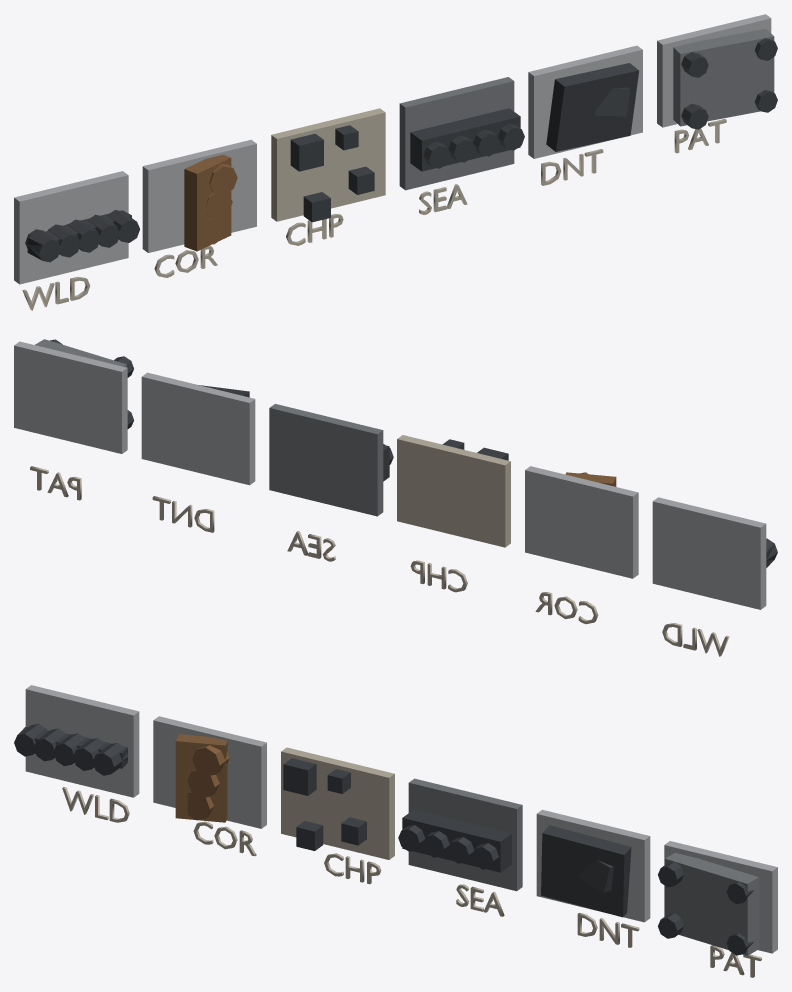
The model's file is TC_PolishDetails_V1.gltf.
The picture shows the model from 3 angles, top to bottom: view 1: azimuth 30°, elevation 25°; view 2: azimuth 150°, elevation 25°; view 3: azimuth 330°, elevation 25°; orthographic projection.
Parts seen in each view (by area): view 1: TC_PolishRef_PaintChip_Panel, TC_PolishRef_WeldScar_Panel, TC_PolishRef_SalvagePatch_Patch, TC_PolishRef_Corrosion_Panel, TC_PolishRef_MechSeam_Panel, TC_PolishRef_Dent_Bulge, TC_PolishRef_Dent_Panel, TC_PolishRef_SalvagePatch_Panel, TC_PolishRef_MechSeam_Strip, TC_PolishRef_Corrosion_Streak, TC_PolishRef_PaintChip_Chip_0, TC_PolishRef_WLD_Label (+22 smaller); view 2: TC_PolishRef_WeldScar_Panel, TC_PolishRef_MechSeam_Panel, TC_PolishRef_Dent_Panel, TC_PolishRef_Corrosion_Panel, TC_PolishRef_PaintChip_Panel, TC_PolishRef_SalvagePatch_Panel, TC_PolishRef_WLD_Label, TC_PolishRef_DNT_Label, TC_PolishRef_COR_Label, TC_PolishRef_CHP_Label, TC_PolishRef_SEA_Label, TC_PolishRef_PAT_Label (+1 smaller); view 3: TC_PolishRef_PaintChip_Panel, TC_PolishRef_WeldScar_Panel, TC_PolishRef_SalvagePatch_Patch, TC_PolishRef_Corrosion_Panel, TC_PolishRef_MechSeam_Panel, TC_PolishRef_Dent_Bulge, TC_PolishRef_Dent_Panel, TC_PolishRef_SalvagePatch_Panel, TC_PolishRef_MechSeam_Strip, TC_PolishRef_Corrosion_Streak, TC_PolishRef_PaintChip_Chip_0, TC_PolishRef_WLD_Label (+21 smaller).
Boxes of the visible parts, box(x1,y1,x2,y2) form: TC_PolishRef_PaintChip_Panel: box(271, 108, 385, 221); TC_PolishRef_WeldScar_Panel: box(14, 171, 128, 284); TC_PolishRef_SalvagePatch_Patch: box(673, 28, 774, 126); TC_PolishRef_Corrosion_Panel: box(142, 139, 256, 252); TC_PolishRef_MechSeam_Panel: box(399, 77, 514, 190); TC_PolishRef_Dent_Bulge: box(546, 63, 639, 151); TC_PolishRef_Dent_Panel: box(528, 45, 642, 158); TC_PolishRef_SalvagePatch_Panel: box(657, 14, 771, 127); TC_PolishRef_MechSeam_Strip: box(410, 108, 520, 171); TC_PolishRef_Corrosion_Streak: box(184, 154, 231, 251); TC_PolishRef_PaintChip_Chip_0: box(290, 133, 323, 171); TC_PolishRef_WLD_Label: box(22, 276, 90, 310); TC_PolishRef_WeldScar_Panel: box(652, 497, 766, 609); TC_PolishRef_MechSeam_Panel: box(269, 404, 383, 516); TC_PolishRef_Dent_Panel: box(141, 372, 255, 485); TC_PolishRef_Corrosion_Panel: box(525, 466, 638, 578); TC_PolishRef_PaintChip_Panel: box(397, 435, 510, 547); TC_PolishRef_SalvagePatch_Panel: box(14, 341, 127, 453); TC_PolishRef_WLD_Label: box(662, 623, 729, 656); TC_PolishRef_DNT_Label: box(152, 496, 214, 532); TC_PolishRef_COR_Label: box(535, 592, 598, 624); TC_PolishRef_CHP_Label: box(410, 560, 467, 592); TC_PolishRef_SEA_Label: box(287, 531, 335, 561); TC_PolishRef_PAT_Label: box(30, 466, 81, 500); TC_PolishRef_PaintChip_Panel: box(281, 747, 394, 859); TC_PolishRef_WeldScar_Panel: box(25, 685, 139, 797); TC_PolishRef_SalvagePatch_Patch: box(665, 853, 759, 955); TC_PolishRef_Corrosion_Panel: box(153, 716, 266, 828); TC_PolishRef_MechSeam_Panel: box(408, 778, 522, 891); TC_PolishRef_Dent_Bulge: box(541, 825, 631, 917); TC_PolishRef_Dent_Panel: box(536, 809, 650, 922); TC_PolishRef_SalvagePatch_Panel: box(664, 841, 777, 953); TC_PolishRef_MechSeam_Strip: box(402, 809, 511, 872); TC_PolishRef_Corrosion_Streak: box(175, 734, 227, 822); TC_PolishRef_PaintChip_Chip_0: box(283, 758, 316, 795); TC_PolishRef_WLD_Label: box(62, 787, 129, 822).
Size of the model in its own units: 1.52 by 0.2475 by 0.123.
